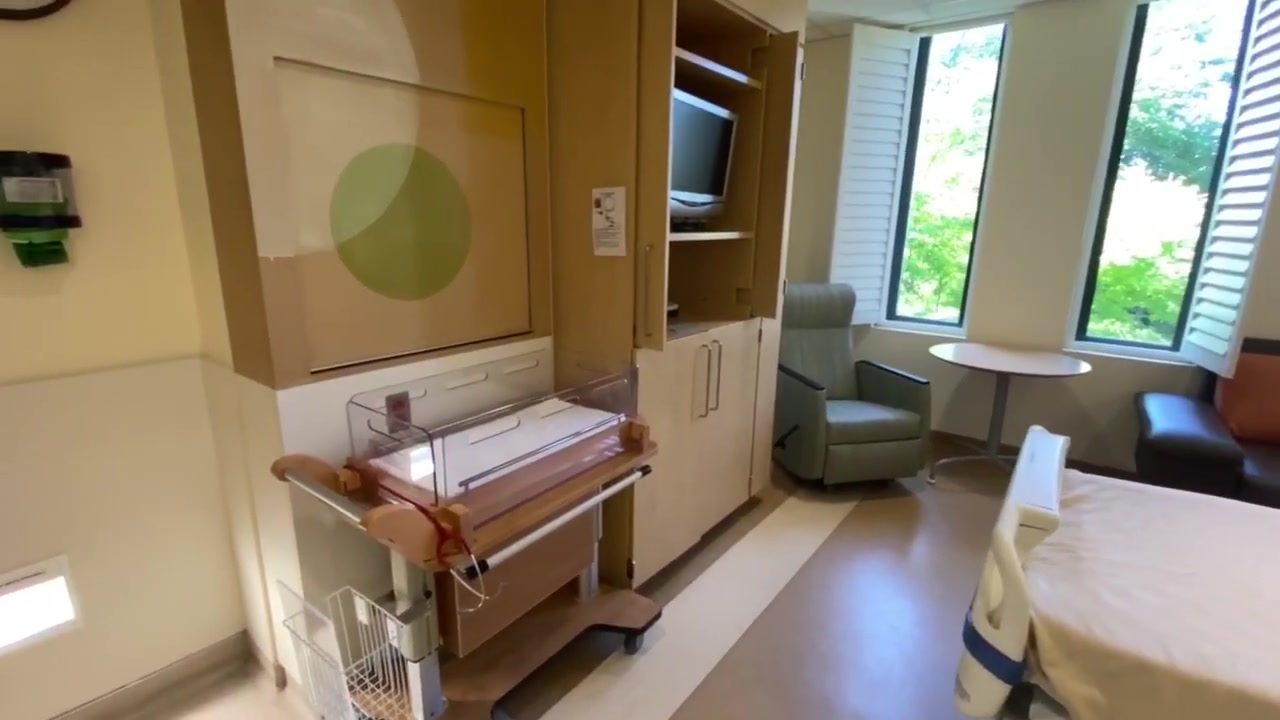TV: (666, 86, 740, 225)
foot_board: (942, 415, 1092, 720)
handle: (638, 246, 656, 338), (697, 341, 714, 426), (708, 337, 725, 414)
hospital_bed: (942, 421, 1280, 720)
sofa: (771, 276, 935, 488), (1129, 323, 1280, 510)
table: (928, 332, 1090, 487)
